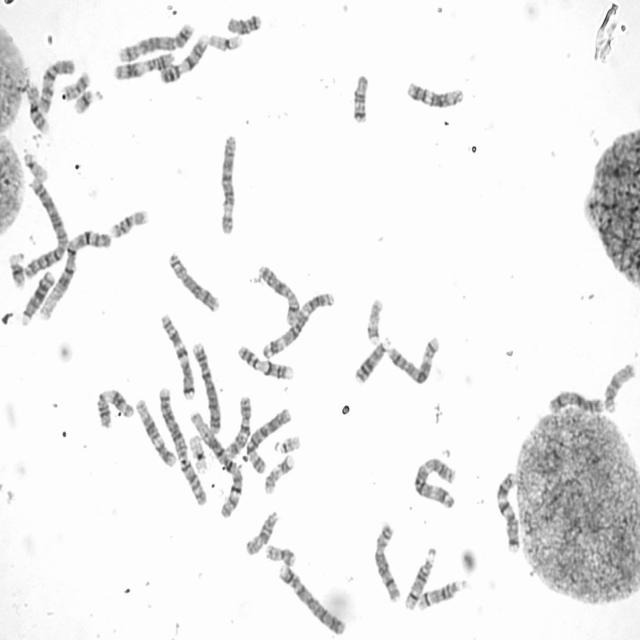A1: (36, 226, 112, 323), (192, 412, 246, 524)
A2: (156, 383, 209, 508), (20, 174, 70, 280)
A3: (259, 288, 336, 361), (411, 453, 458, 510)
B4: (276, 561, 348, 637), (190, 338, 223, 436)
B5: (116, 20, 196, 64), (386, 332, 440, 386)
C10: (36, 56, 76, 115), (223, 392, 252, 458)
C11: (112, 47, 176, 81), (93, 384, 135, 430)
C12: (134, 395, 178, 468), (404, 78, 465, 110)
C6: (243, 404, 292, 474), (218, 131, 238, 237)
C7: (157, 310, 197, 401), (493, 468, 521, 554)
C8: (166, 249, 221, 313), (371, 520, 403, 603)
C9: (156, 30, 210, 84), (234, 342, 296, 382)
D13: (18, 268, 56, 326), (351, 337, 389, 385)
D14: (402, 543, 438, 612), (415, 577, 469, 612)
D15: (601, 359, 636, 414), (243, 506, 280, 557)
E16: (24, 80, 50, 136), (108, 207, 150, 240)
E17: (262, 451, 296, 496), (364, 295, 384, 346)
E18: (350, 71, 371, 126), (225, 12, 262, 36)
F19: (187, 431, 209, 475), (206, 30, 244, 54)
F20: (61, 69, 91, 101), (263, 540, 297, 568)
G21: (8, 249, 27, 290), (72, 86, 95, 116)
G22: (22, 149, 49, 183), (272, 431, 303, 455)
X: (256, 262, 301, 328), (545, 387, 605, 416)
